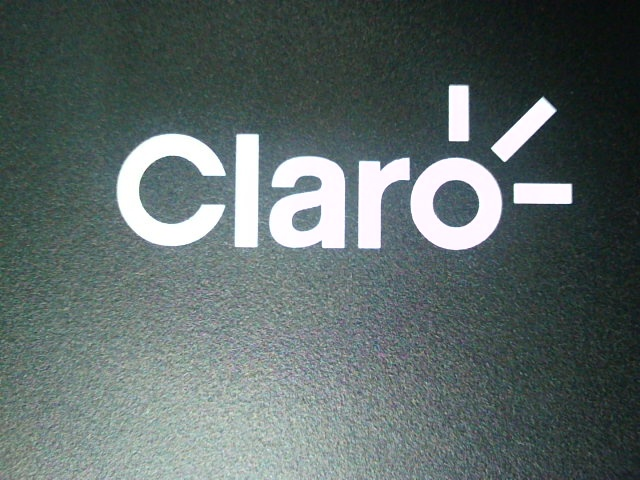BC_Claor: (109, 87, 581, 261)
